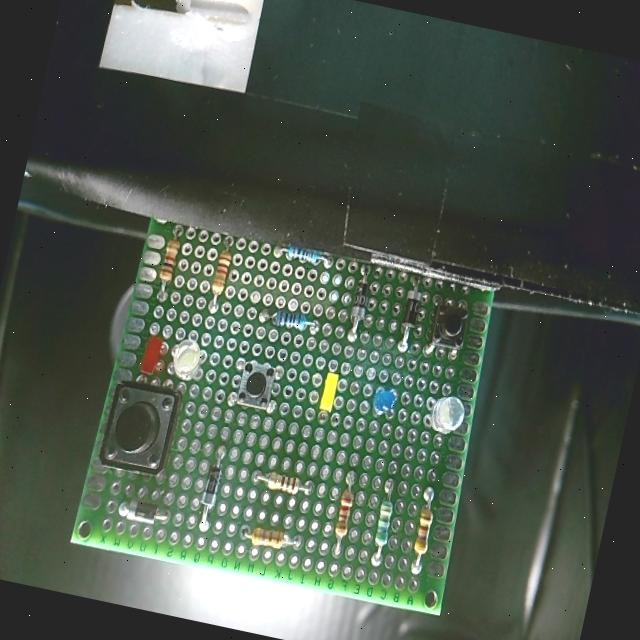diode: (398, 285, 425, 332), (198, 463, 226, 507), (348, 275, 374, 321), (122, 497, 162, 526)
led: (426, 389, 470, 439), (168, 335, 206, 379), (138, 326, 166, 376), (314, 368, 341, 418), (370, 384, 398, 418)
resistor: (209, 244, 235, 298), (371, 492, 397, 545), (156, 234, 182, 284), (331, 489, 356, 541), (409, 506, 435, 554), (262, 467, 304, 496), (272, 306, 312, 336), (248, 524, 290, 552), (283, 242, 326, 269)
switch: (96, 378, 180, 477), (426, 294, 474, 352), (232, 354, 280, 411)
